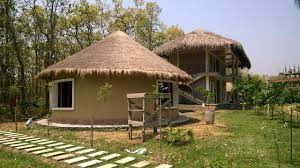Mud House: (32, 34, 187, 139), (161, 22, 247, 111)
